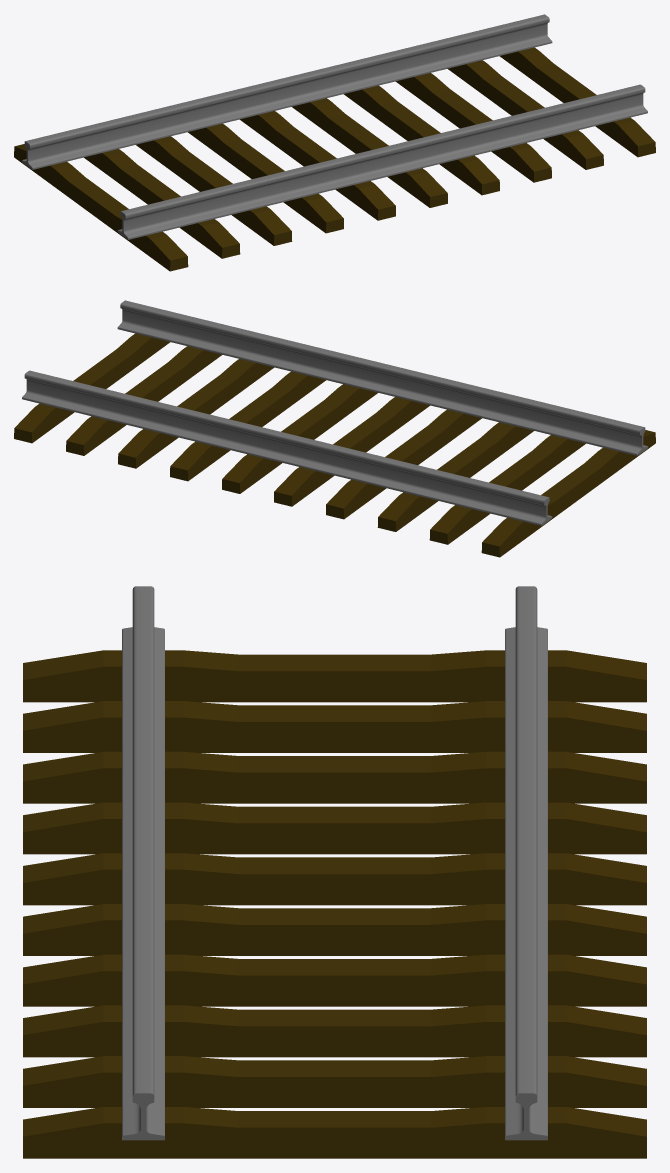
File: RailwayTrack (HighPoly).fbx
The picture shows the model from 3 angles, top to bottom: view 1: azimuth 30°, elevation 25°; view 2: azimuth 150°, elevation 25°; view 3: azimuth 270°, elevation 25°; orthographic projection. The views are drawn at different scales.
Parts seen in each view (by area): view 1: Railway Track; view 2: Railway Track; view 3: Railway Track.
Boxes of the visible parts, box(x1,y1,x2,y2) form: Railway Track: box(14, 14, 655, 271); Railway Track: box(14, 300, 655, 557); Railway Track: box(23, 586, 646, 1158).
Bounding box in the file's own units: 250 × 18.8 × 130.
